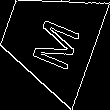M_W: (20, 9, 79, 70)
